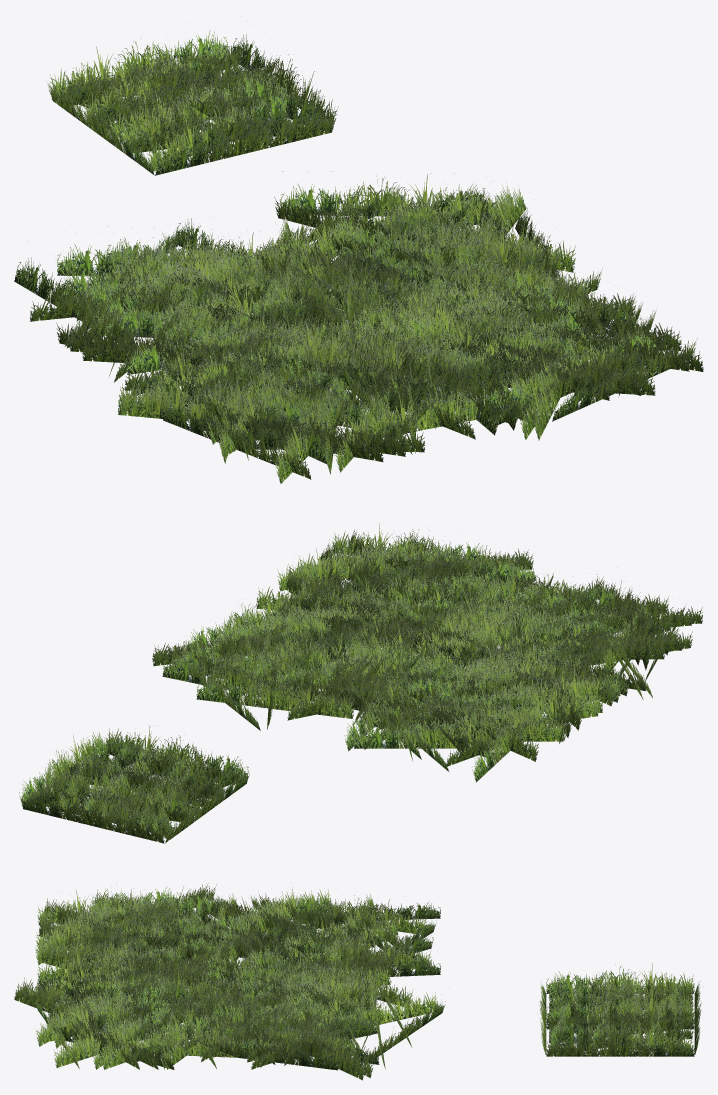
The picture shows the model from 3 angles, top to bottom: view 1: azimuth 30°, elevation 25°; view 2: azimuth 150°, elevation 25°; view 3: azimuth 270°, elevation 25°; orthographic projection. The views are drawn at different scales.
Size of the model in its own units: 3.98 by 0.2832 by 6.35.
Materials: 1 (1 with a texture image).
